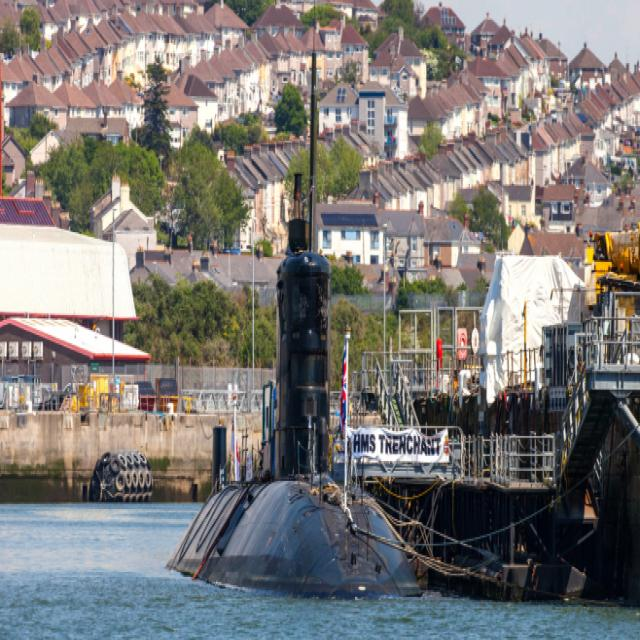submarine: (165, 230, 427, 598)
